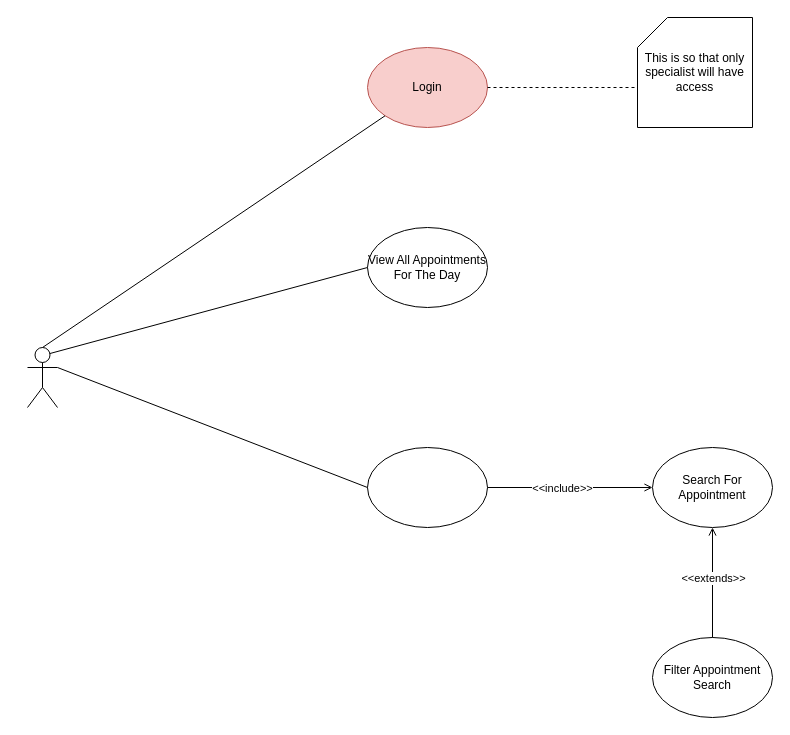
This 790x735 diagram has some shape labels left out. Each missing label, with the box of its shape:
Set Status of Appointment: (366, 446, 488, 528)
Specialist: (26, 346, 58, 408)
